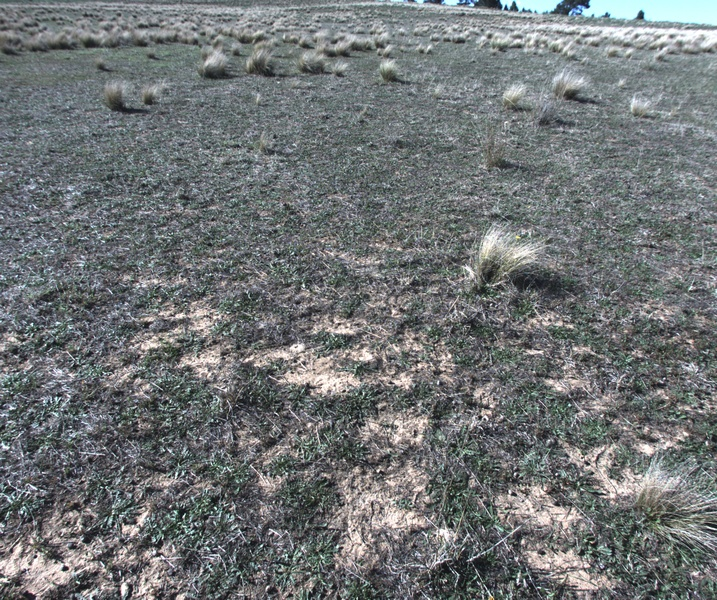st: (632, 469, 717, 551), (465, 225, 549, 289), (549, 69, 583, 102), (294, 49, 327, 72), (140, 84, 166, 110), (506, 81, 528, 109), (249, 55, 278, 76), (374, 58, 399, 82), (632, 98, 654, 124), (201, 53, 229, 73), (102, 86, 123, 112), (92, 54, 113, 73), (333, 37, 353, 56), (327, 62, 347, 77), (417, 44, 437, 58), (377, 42, 393, 59), (140, 44, 155, 62), (655, 46, 668, 63), (604, 45, 620, 57), (623, 49, 638, 60)
